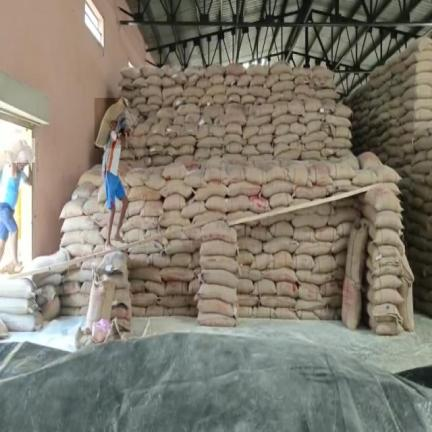Zone-Counting: (96, 98, 129, 248), (0, 140, 34, 272)
